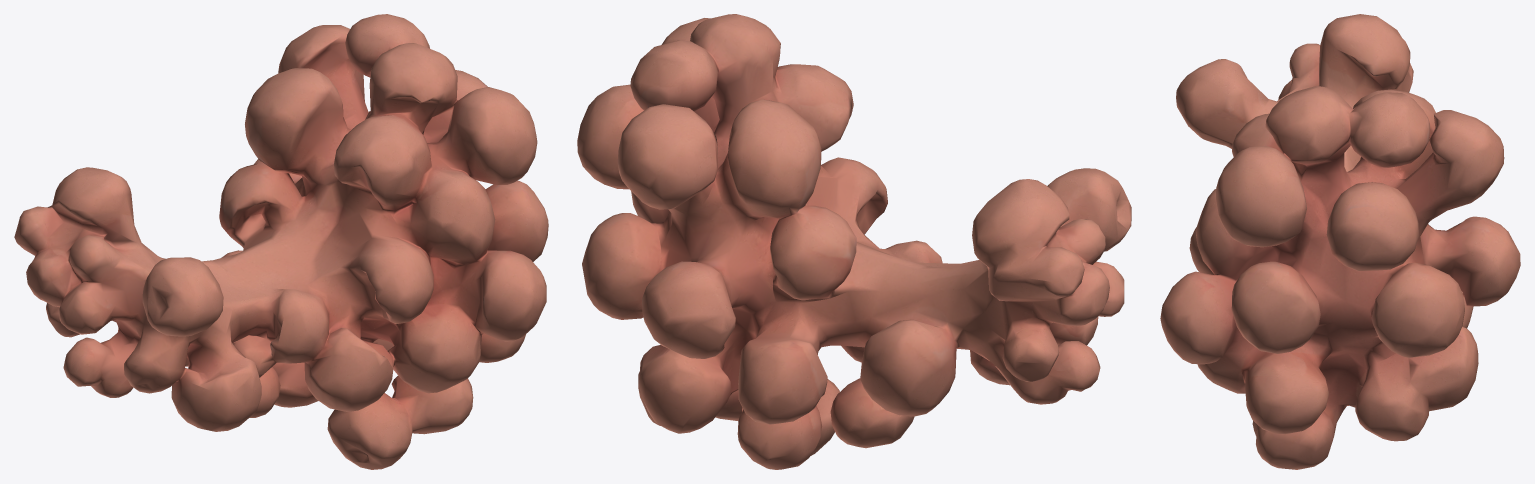
Rendered from Prop_SalivaGland.glb.
The picture shows the model from 3 angles, left to right: view 1: azimuth 30°, elevation 25°; view 2: azimuth 150°, elevation 25°; view 3: azimuth 270°, elevation 25°; orthographic projection. The views are drawn at different scales.
Size of the model in its own units: 1.9 by 1.55 by 1.29.
1 material, 1 textured.
